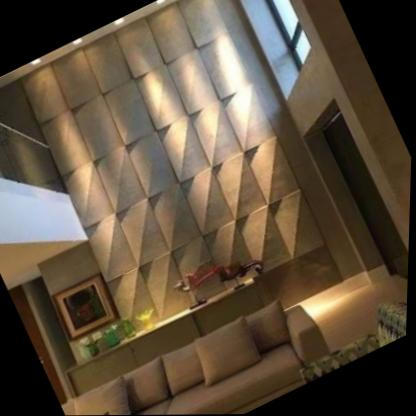Sofa: (61, 283, 344, 416)
Wall Panel: (11, 0, 351, 338)
